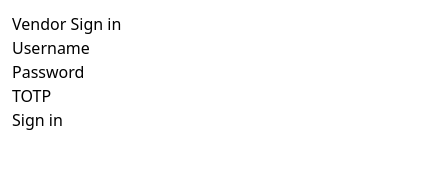
auth login › a failed login (401) surfaces the generic invalid-credentials message and does not set a token or principal
Type "alice" into the field labelled "Username".
click(205, 48); type("alice")  # box [90,36,321,60]
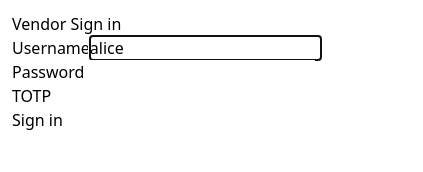
Type "wrong" into the password field labelled "Password".
click(200, 72); type("wrong")  # box [84,60,315,84]
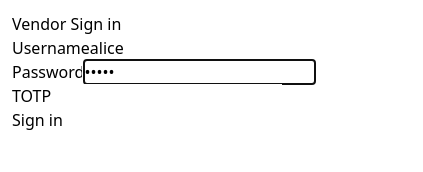
Type "000000" into the field labelled "TOTP".
click(167, 96); type("000000")  # box [51,84,282,108]
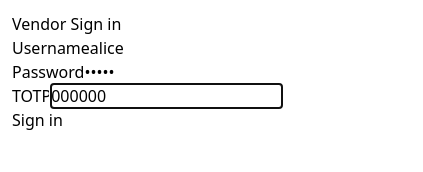
Click the button "Sign in".
click(37, 120)  # box [12,108,63,132]
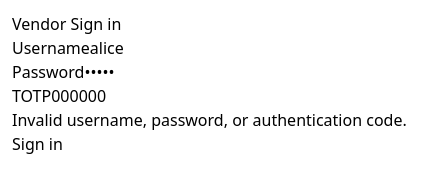
Expected: the text "Invalid username, password, or authentication code." is shown, [12,109,407,131]
